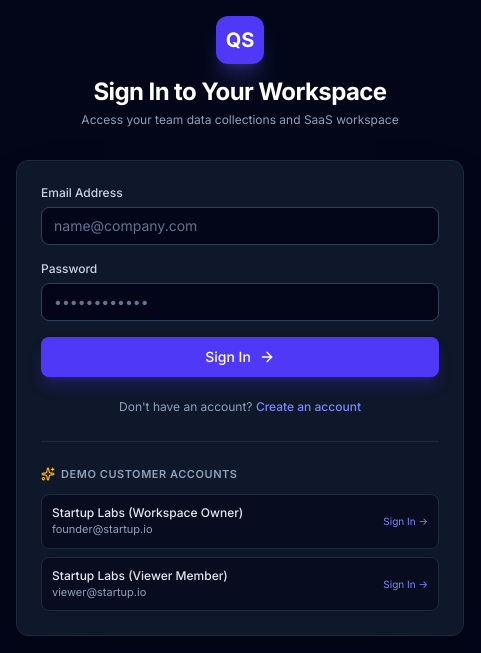
Customer Authentication Suite › allows selecting a demo credential shortcut to autofill and submit
The width and height of the screenshot is (481, 653).
Click the text "Startup Labs (Workspace Owner)" at (148, 513), box x1=52 y1=505 x2=243 y2=521
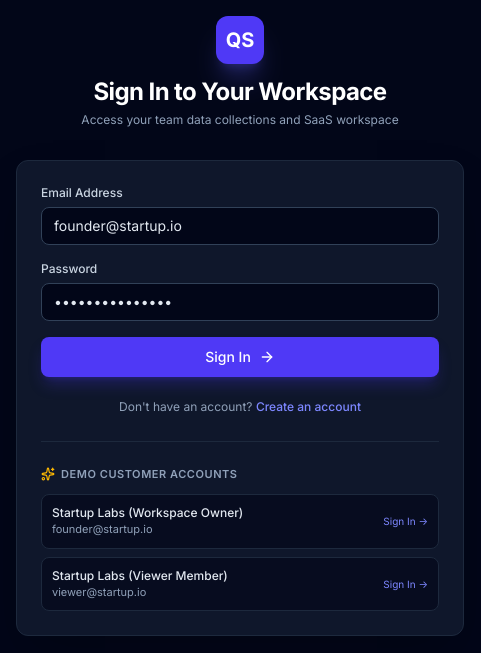
expect the field showing "founder@startup.io" is shown: met, box x1=41 y1=207 x2=439 y2=245
